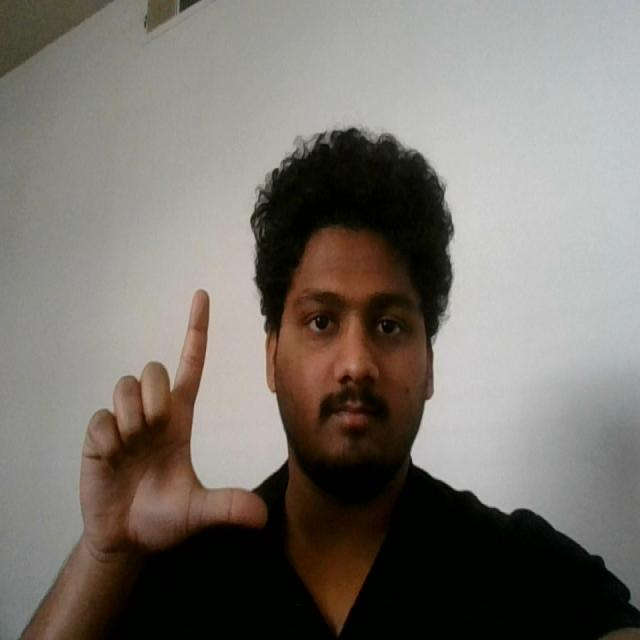IloveYou: (70, 278, 275, 572)
